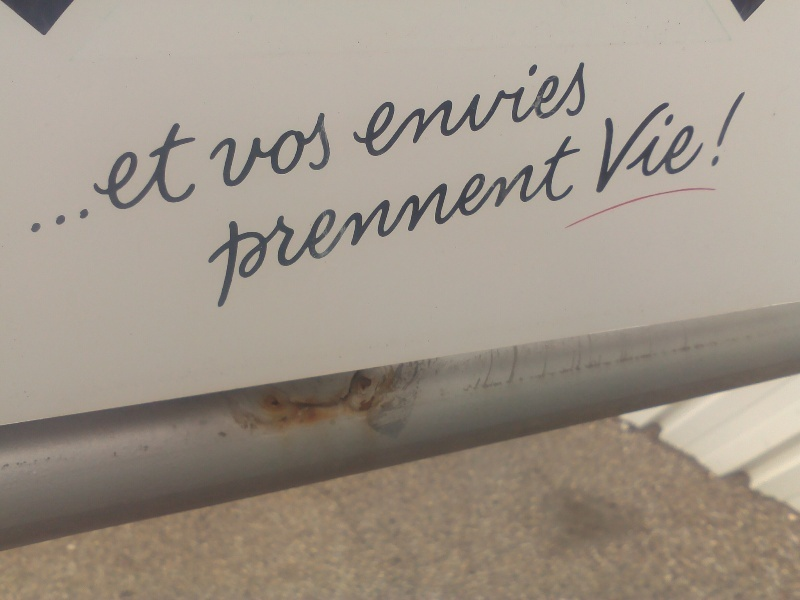text: (225, 132, 240, 315), (241, 132, 256, 315), (257, 132, 272, 315), (273, 132, 288, 315), (289, 132, 304, 315), (305, 132, 320, 315), (321, 132, 336, 315), (337, 132, 352, 315), (353, 132, 368, 315), (369, 132, 384, 315), (385, 132, 400, 315), (401, 132, 416, 315), (417, 132, 432, 315), (433, 132, 448, 315), (449, 132, 464, 315), (465, 132, 480, 315), (481, 132, 496, 315), (497, 132, 512, 315), (513, 132, 528, 315), (529, 132, 544, 315), (545, 132, 560, 315), (561, 132, 576, 315), (214, 132, 224, 315), (369, 57, 384, 166), (385, 57, 400, 166), (401, 57, 416, 166), (417, 57, 432, 166), (433, 57, 448, 166), (449, 57, 464, 166), (465, 57, 480, 166), (481, 57, 496, 166), (497, 57, 512, 166), (513, 57, 528, 166), (529, 57, 544, 166), (545, 57, 560, 166), (561, 57, 576, 166), (609, 88, 624, 197), (625, 88, 640, 197), (641, 88, 656, 197), (657, 88, 672, 197), (673, 88, 688, 197), (689, 88, 704, 197), (705, 88, 720, 197), (721, 88, 736, 197), (97, 118, 112, 222), (113, 118, 128, 222), (129, 118, 144, 222), (145, 118, 160, 222), (161, 118, 176, 222), (177, 118, 192, 222), (577, 57, 590, 166), (83, 118, 96, 222), (356, 57, 368, 166), (737, 88, 749, 197), (577, 132, 584, 315), (209, 109, 224, 193), (225, 109, 240, 193), (241, 109, 256, 193), (257, 109, 272, 193), (273, 109, 288, 193), (289, 109, 304, 193), (305, 109, 320, 193), (321, 109, 332, 193), (193, 118, 199, 222), (603, 88, 608, 197), (33, 203, 48, 238), (49, 203, 64, 238), (65, 203, 80, 238), (81, 203, 92, 238), (26, 203, 32, 238)
